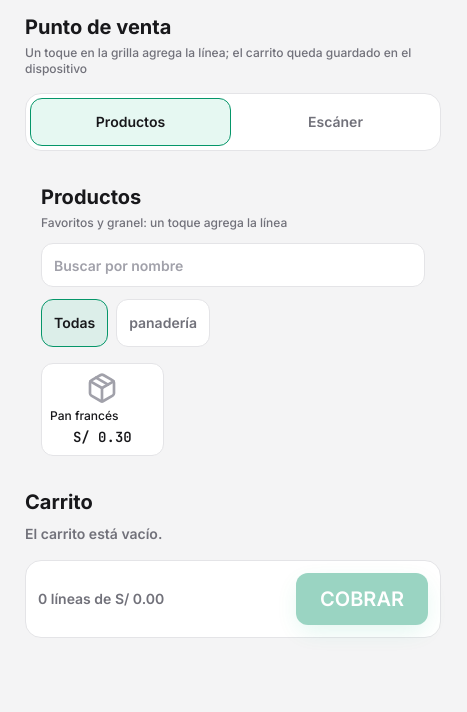
Test: CounterSaleScreen sale durability › says the sale is still open when the event cannot be persisted
Click the button with aria-label "Pan francés, S/ 0.30" at (102, 410), box x1=41 y1=363 x2=164 y2=456
(page scrolled)
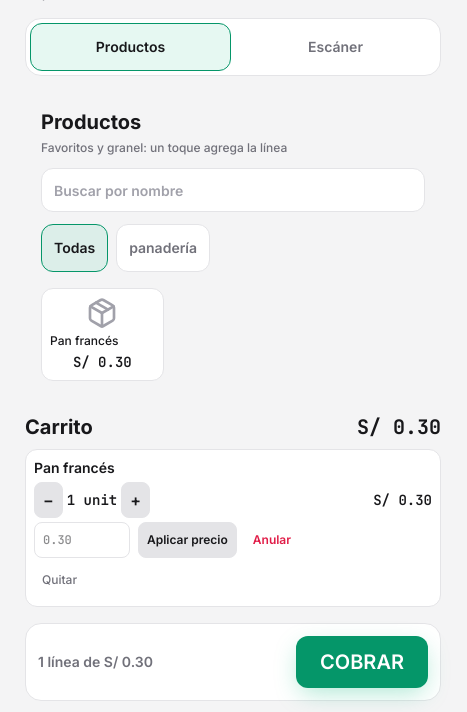
Check: the button named "Agregar una unidad de Pan francés" is shown, box x1=121 y1=482 x2=150 y2=518
Click the button with test id "cobrar-button" at (362, 662), box x1=296 y1=636 x2=428 y2=688
(page scrolled)
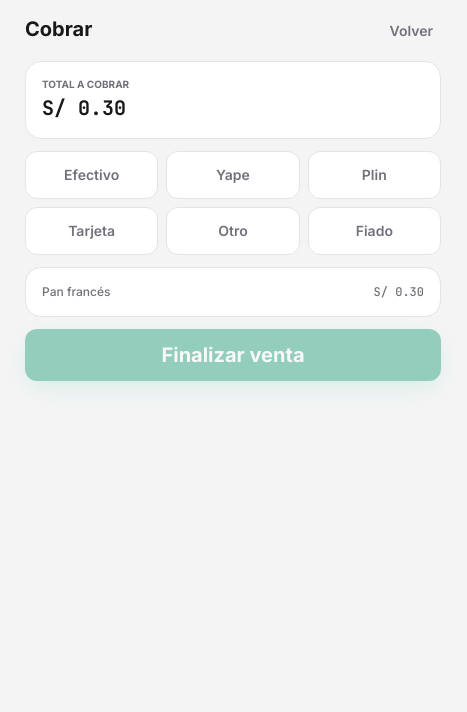
Click the button with test id "tender-method-yape" at (233, 175), box x1=166 y1=151 x2=300 y2=199
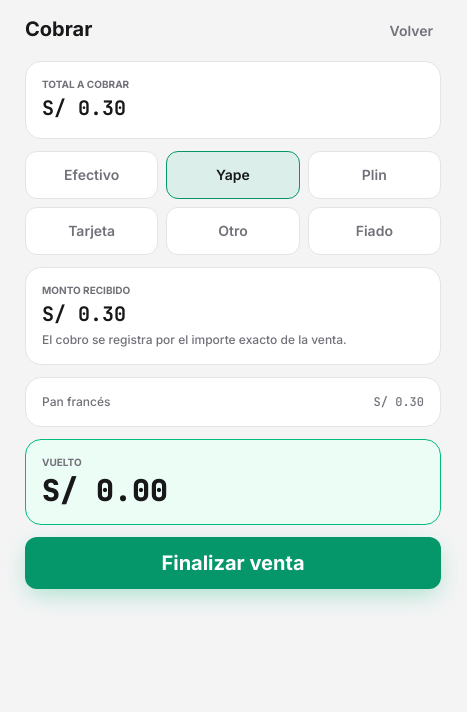
Click the button "Finalizar venta" at (233, 563), box x1=25 y1=537 x2=441 y2=589
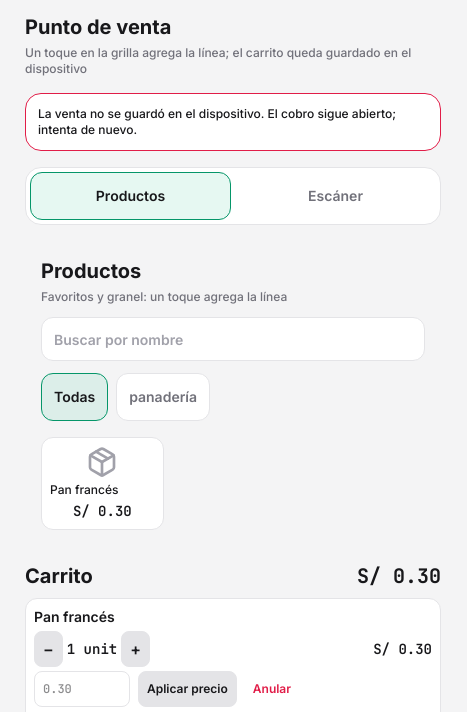
Check: the message with test id "close-failure-notice" shows "no se guardó", box x1=38 y1=106 x2=396 y2=137
